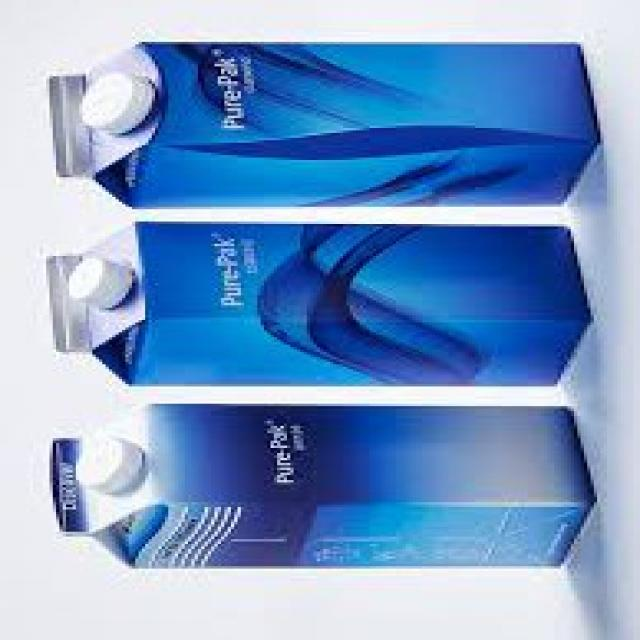non_white_jug: (41, 400, 606, 574), (41, 38, 606, 210), (40, 216, 598, 390)
